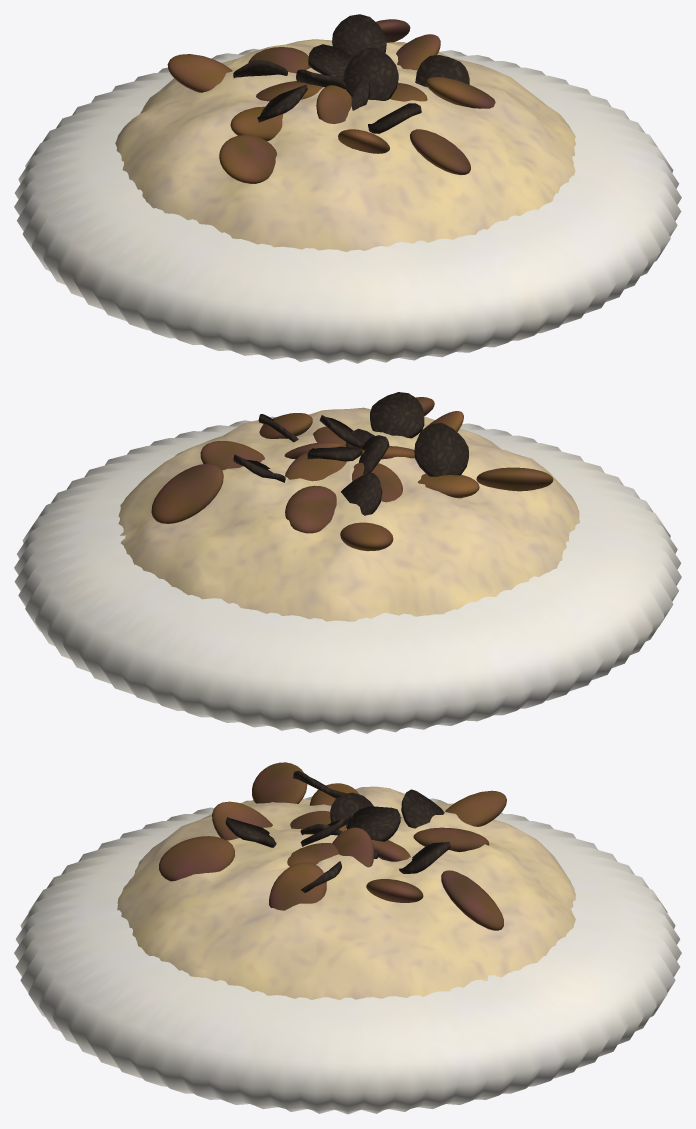
The model's file is truffle-mushroom-risotto-balanced.glb.
3 renders of one model, top to bottom at view 1: azimuth 30°, elevation 25°; view 2: azimuth 150°, elevation 25°; view 3: azimuth 270°, elevation 25°, orthographic.
Parts seen in each view (by area): view 1: Mesh_Risotto_Porcelain_Bowl, Mesh_Arborio_Risotto_Mound, Mesh_Roasted_Cremini_Slices, Mesh_Shaved_Black_Truffle; view 2: Mesh_Risotto_Porcelain_Bowl, Mesh_Arborio_Risotto_Mound, Mesh_Roasted_Cremini_Slices, Mesh_Shaved_Black_Truffle; view 3: Mesh_Risotto_Porcelain_Bowl, Mesh_Arborio_Risotto_Mound, Mesh_Roasted_Cremini_Slices, Mesh_Shaved_Black_Truffle.
Part boxes in pixels (<box>): Mesh_Risotto_Porcelain_Bowl: <box>14,48,681,363</box>; Mesh_Arborio_Risotto_Mound: <box>115,39,576,251</box>; Mesh_Roasted_Cremini_Slices: <box>167,19,495,183</box>; Mesh_Shaved_Black_Truffle: <box>233,14,469,133</box>; Mesh_Risotto_Porcelain_Bowl: <box>14,416,681,733</box>; Mesh_Arborio_Risotto_Mound: <box>118,407,579,621</box>; Mesh_Roasted_Cremini_Slices: <box>151,397,553,551</box>; Mesh_Shaved_Black_Truffle: <box>233,392,468,515</box>; Mesh_Risotto_Porcelain_Bowl: <box>14,796,681,1114</box>; Mesh_Arborio_Risotto_Mound: <box>117,786,575,999</box>; Mesh_Roasted_Cremini_Slices: <box>159,762,506,930</box>; Mesh_Shaved_Black_Truffle: <box>225,770,450,892</box>.
Bounding box in the file's own units: 2 × 0.7371 × 2.
4 materials, 4 textured.
